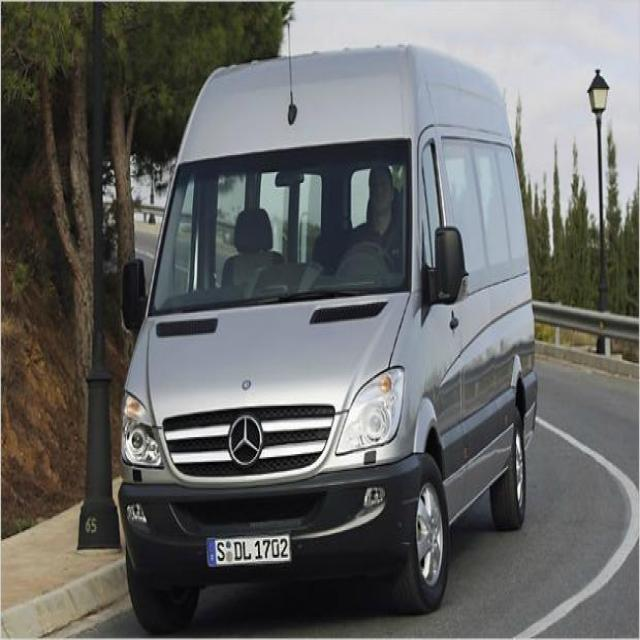Truck: (112, 33, 564, 621)
